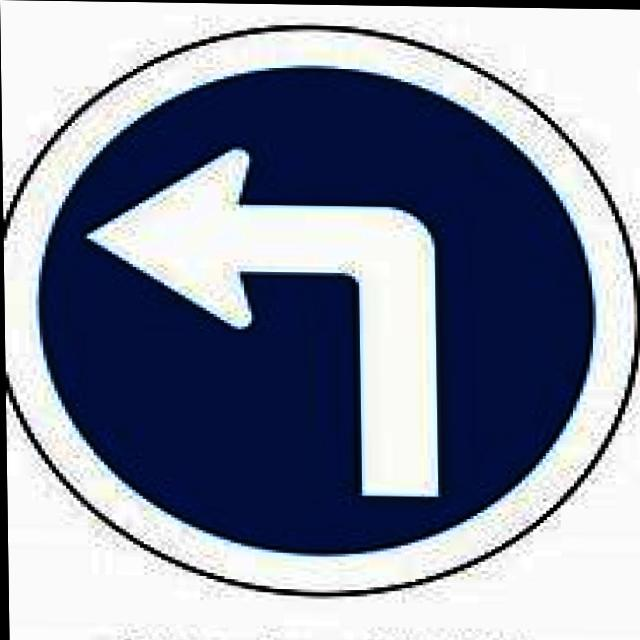COMPULSARY_TURN_LEFT_AHEAD: (0, 9, 640, 604)
